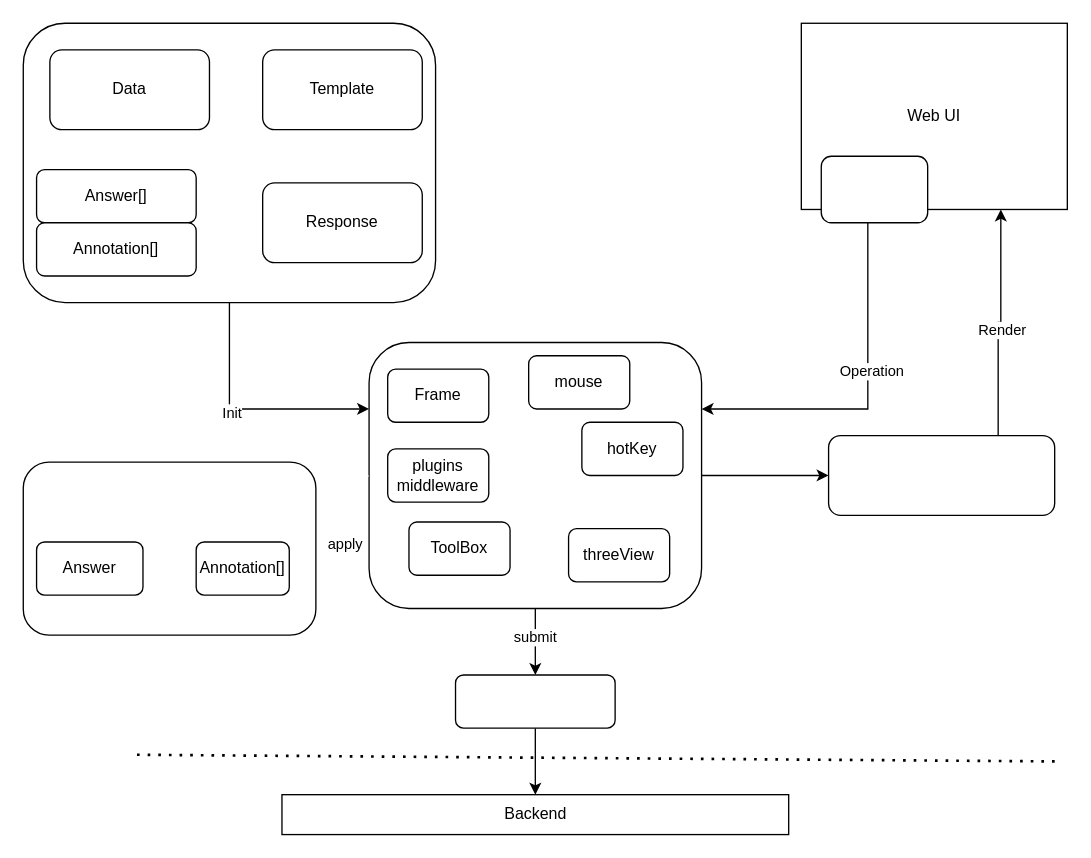
This 1091x858 diagram has some shape labels left out. Here are the shapes that lost their labels. From the top down, the box of each, then its label:
(22, 22, 436, 303): Page
(820, 155, 928, 223): Action
(368, 341, 702, 608): Drama
(827, 434, 1055, 515): THREE.Scene THREE.Object3D[]
(22, 461, 316, 635): Store
(454, 674, 615, 728): Validation
